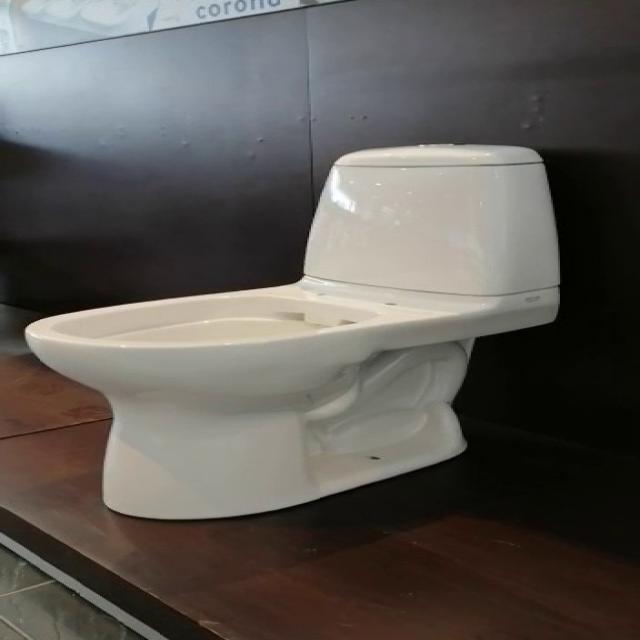toilet: (24, 142, 562, 520)
